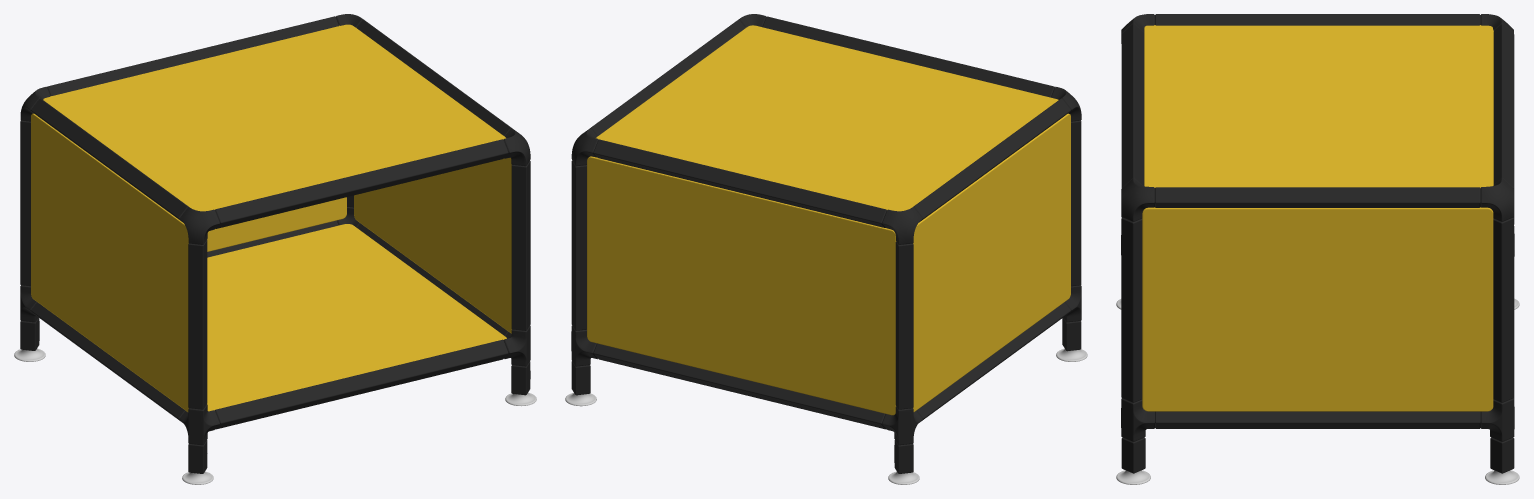
3 renders of one model, left to right at view 1: azimuth 30°, elevation 25°; view 2: azimuth 150°, elevation 25°; view 3: azimuth 270°, elevation 25°, orthographic. The views are drawn at different scales.
Visible parts, largest first — view 1: 420x374x229; view 2: 420x374x229; view 3: 420x374x229.
Boxes of the visible parts, x1=… form: 420x374x229: x1=14, y1=14, x2=536, y2=484; 420x374x229: x1=565, y1=14, x2=1087, y2=484; 420x374x229: x1=1116, y1=14, x2=1519, y2=484.
Bounding box in the file's own units: 0.5099 × 0.3683 × 0.4632.
